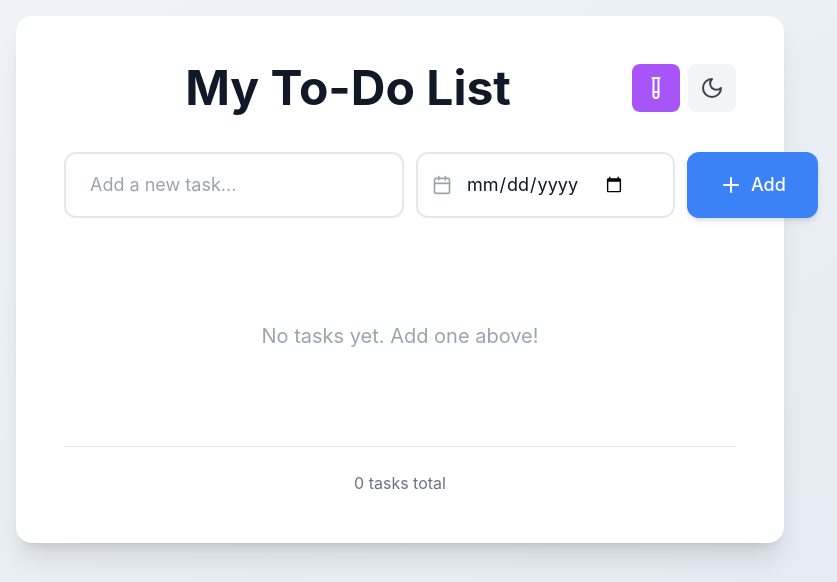
Test: TodoApp › adds a new todo with due date
In the field with test id "todo-input": (234, 185) [64, 152, 404, 218], type "Buy groceries"
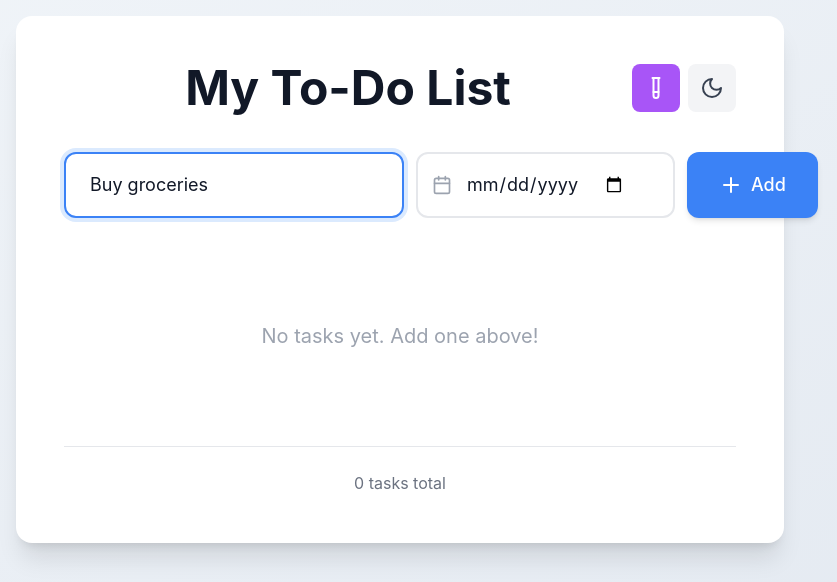
In the date field with test id "date-input": (546, 185) [416, 152, 675, 218], type "2025-12-31"
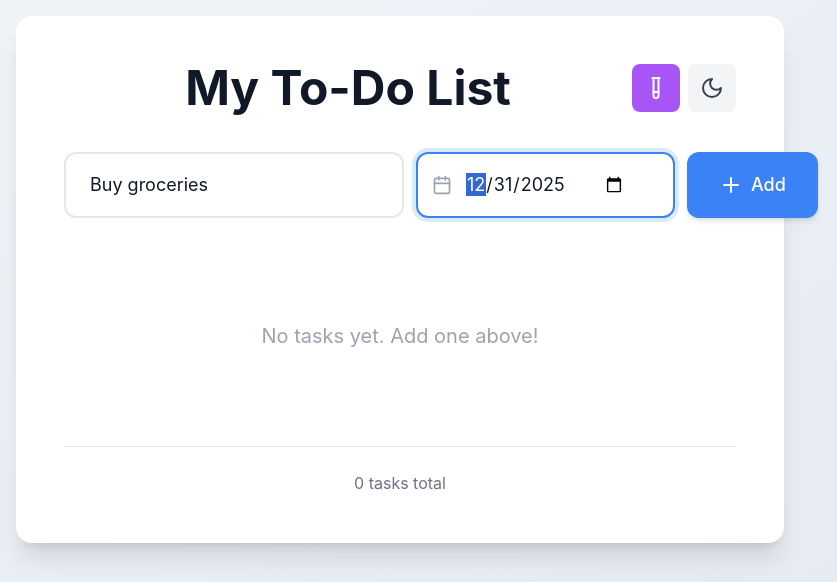
Click the button with test id "add-button": click(752, 185) [687, 152, 818, 218]
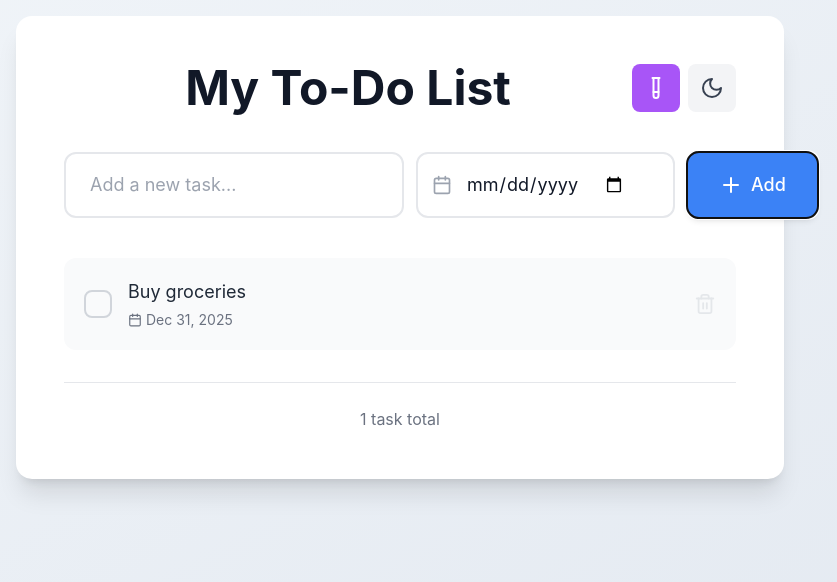
Check: the text "Buy groceries" is shown, box [128, 281, 246, 302]
Check: the text "Dec 31, 2025" is shown, box [128, 311, 233, 328]
Check: the field with test id "todo-input" is empty, box [64, 152, 404, 218]
